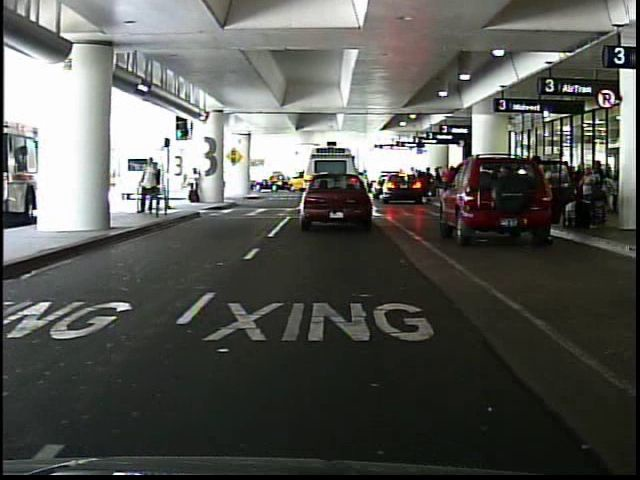person: (529, 153, 559, 234), (138, 155, 159, 218), (153, 161, 169, 216), (185, 167, 205, 207), (441, 163, 458, 201)
